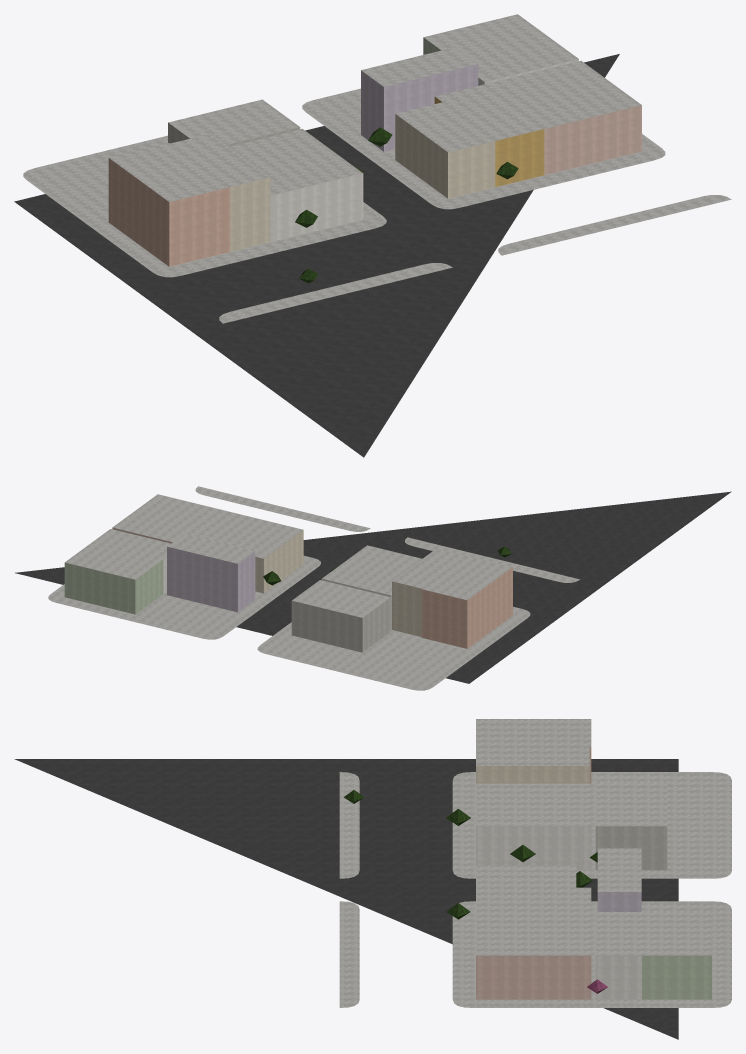
Rendered from cidade_S03_05_lod.gltf.
The picture shows the model from 3 angles, top to bottom: view 1: azimuth 30°, elevation 25°; view 2: azimuth 150°, elevation 25°; view 3: azimuth 270°, elevation 25°; orthographic projection. The views are drawn at different scales.
Visible parts, largest first — view 1: S03_05_Chao_LOD2, S03_05_Edificios_LOD1, S03_05_Vegetacao_LOD2; view 2: S03_05_Chao_LOD2, S03_05_Edificios_LOD1; view 3: S03_05_Chao_LOD2, S03_05_Edificios_LOD1, S03_05_Vegetacao_LOD2.
Boxes of the visible parts, x1,y1,x2,y2 form: S03_05_Chao_LOD2: (14, 54, 731, 457); S03_05_Edificios_LOD1: (108, 14, 641, 266); S03_05_Vegetacao_LOD2: (295, 127, 518, 283); S03_05_Chao_LOD2: (15, 486, 731, 690); S03_05_Edificios_LOD1: (64, 494, 512, 652); S03_05_Chao_LOD2: (14, 759, 731, 1039); S03_05_Edificios_LOD1: (476, 719, 711, 999); S03_05_Vegetacao_LOD2: (343, 790, 607, 993).
Bounding box in the file's own units: 100 × 10.37 × 108.
12 materials, 12 textured.
